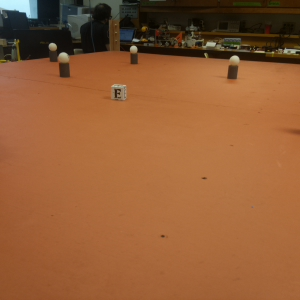blockE: (111, 83, 128, 100)
corner: (108, 19, 120, 51)
obstacle: (58, 51, 72, 78), (226, 54, 240, 80), (47, 42, 58, 62), (129, 45, 138, 63)
